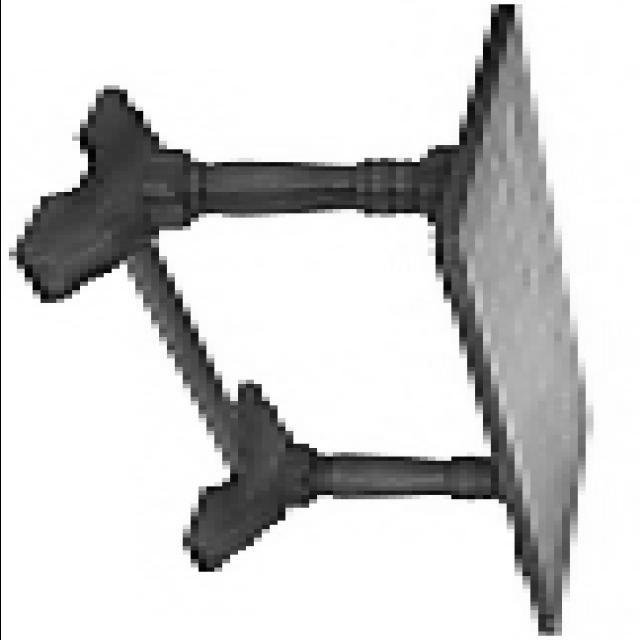table: (16, 5, 590, 636)
